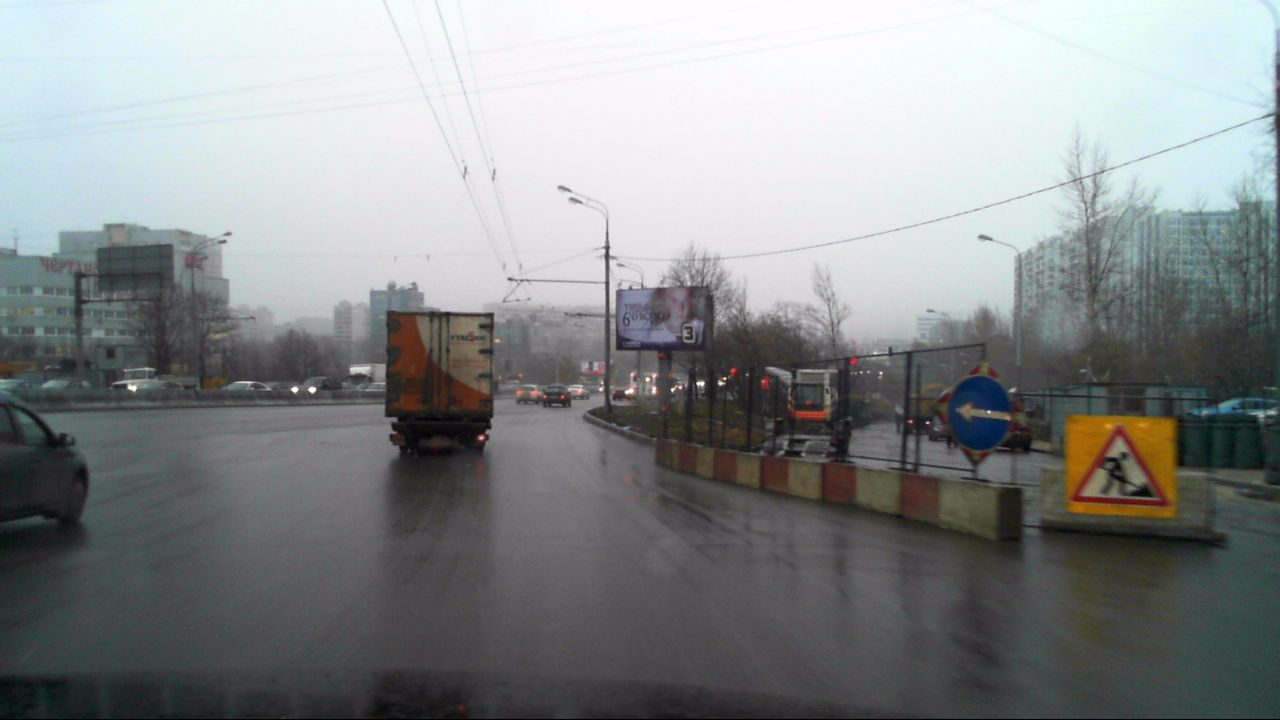Turn Left: (950, 376, 1013, 449)
